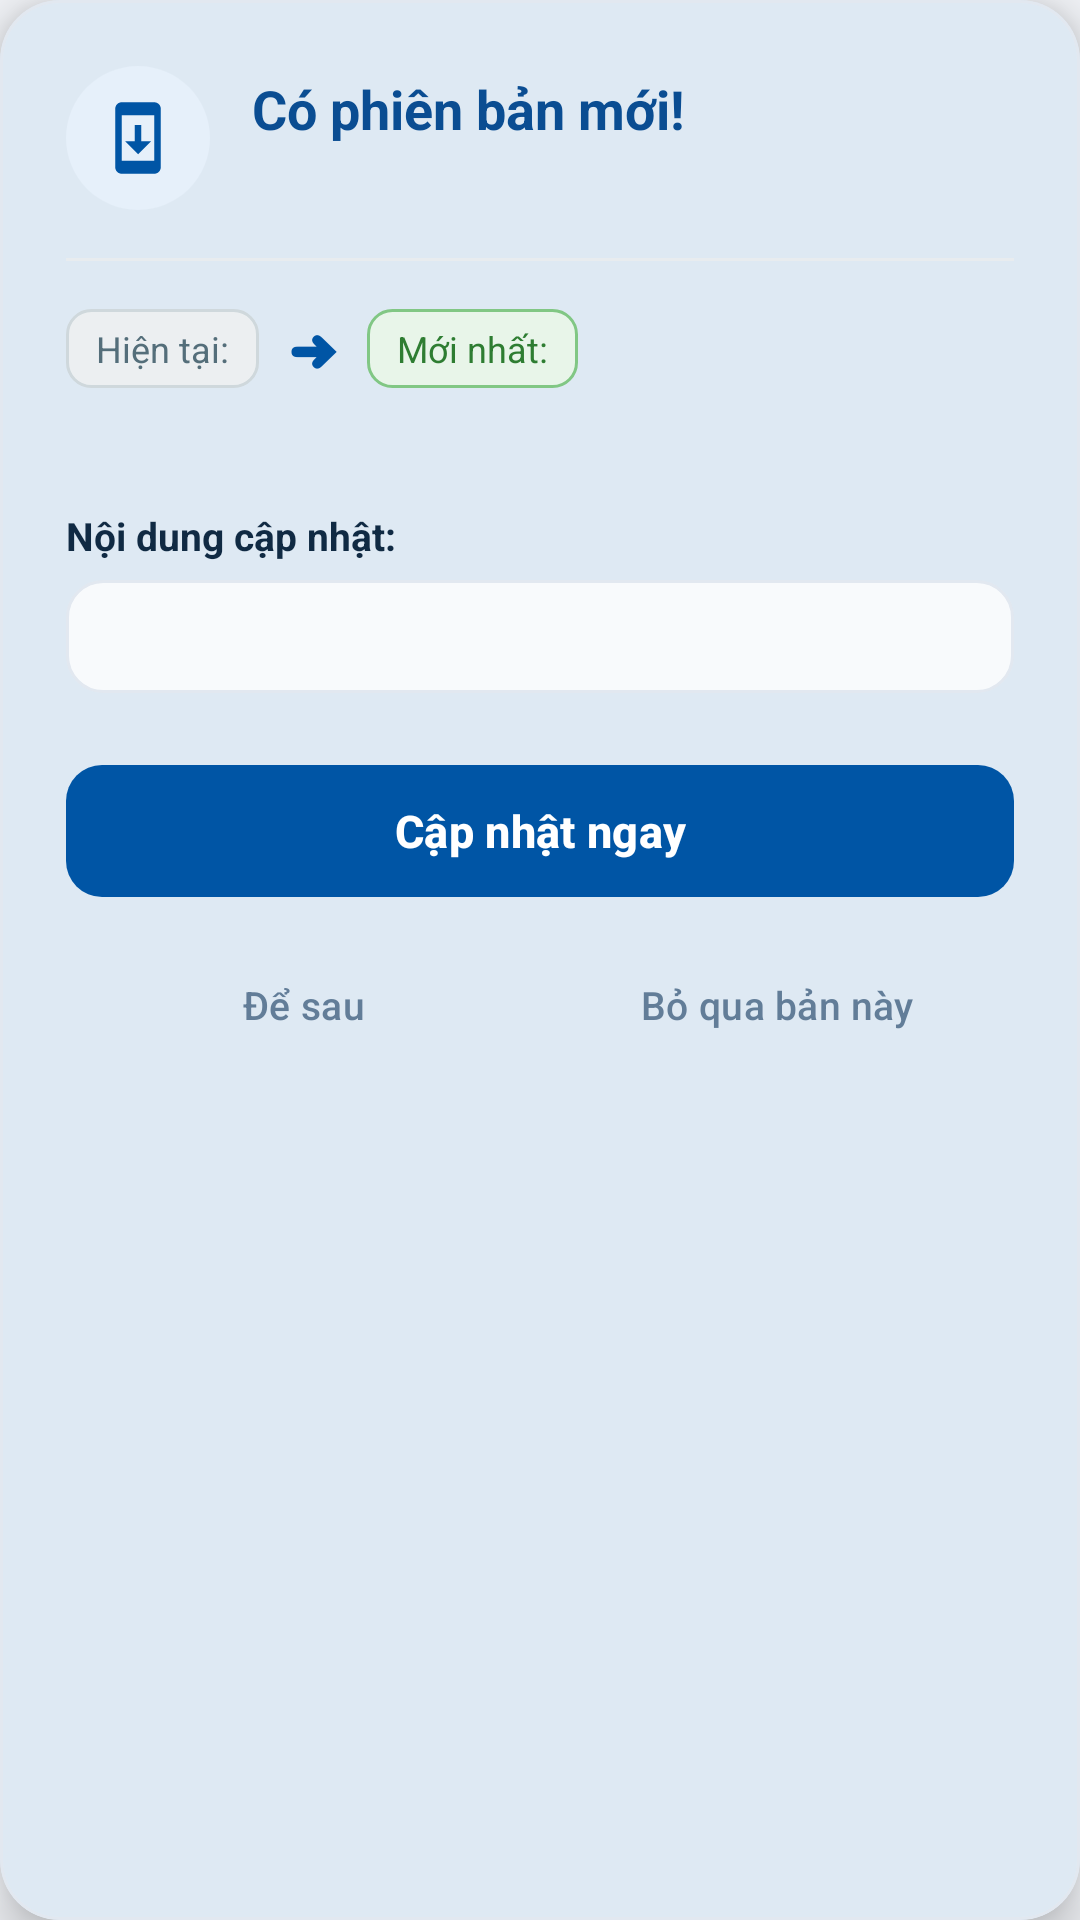

Icons on this 1080px x 1920px Android screen, each with the point to tap as (x=x, y=y):
system update: (x=138, y=138)
